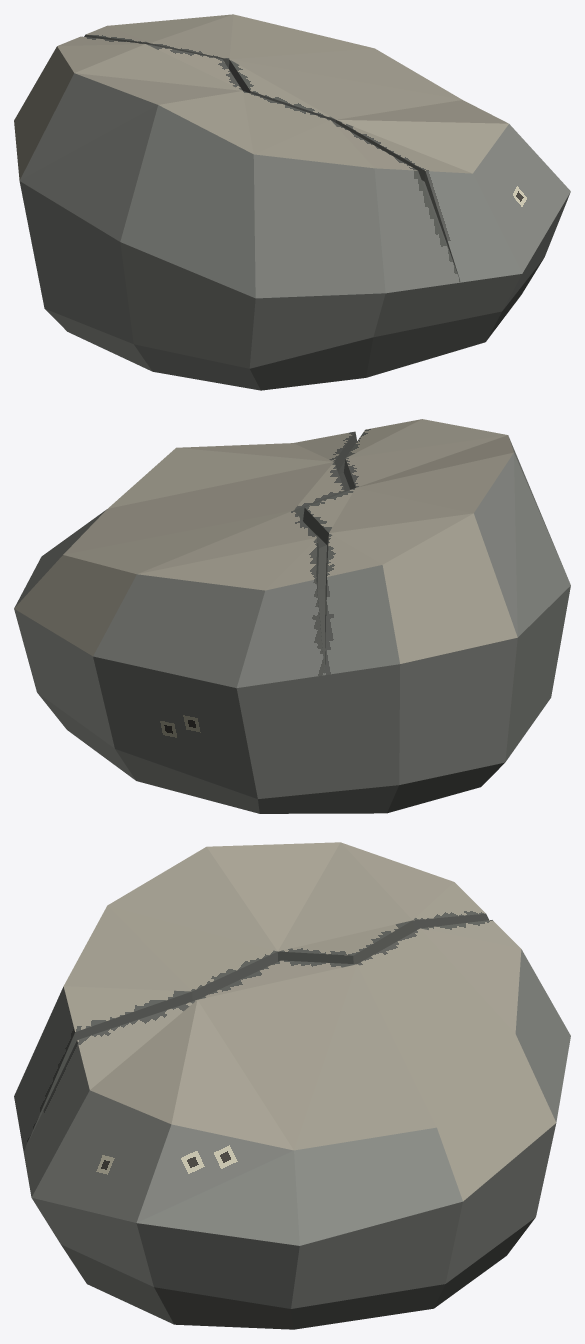
3 views of the same model, one above another, from view 1: azimuth 30°, elevation 25°; view 2: azimuth 150°, elevation 25°; view 3: azimuth 270°, elevation 25° (orthographic). The views are drawn at different scales.
Parts seen in each view (by area): view 1: matte_reef_medium; view 2: matte_reef_medium; view 3: matte_reef_medium.
Boxes of the visible parts, x1,y1,x2,y2 form: matte_reef_medium: (14,14,570,390); matte_reef_medium: (14,419,570,813); matte_reef_medium: (14,842,570,1329).
Bounding box in the file's own units: 2.07 × 1.1 × 1.91.
1 material, 1 textured.
